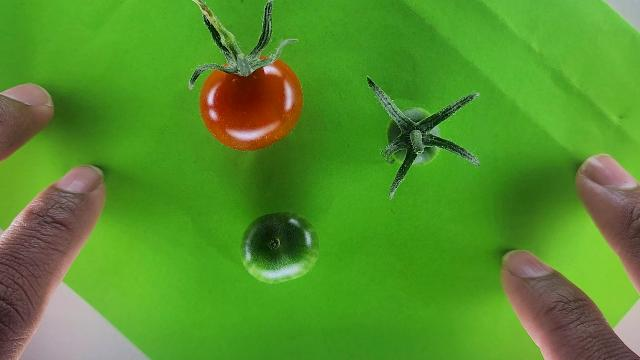Fruit Maturation: (239, 210, 320, 284), (386, 108, 440, 167)
Fully Grown: (195, 55, 304, 152)
